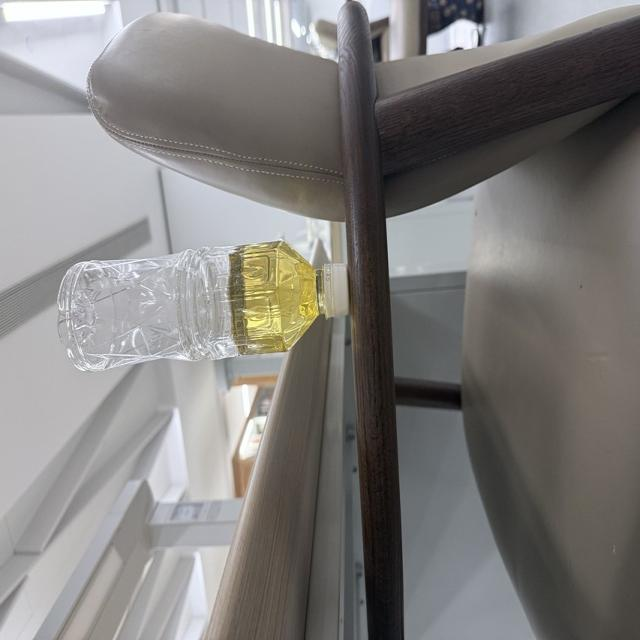low: (59, 241, 348, 371)
